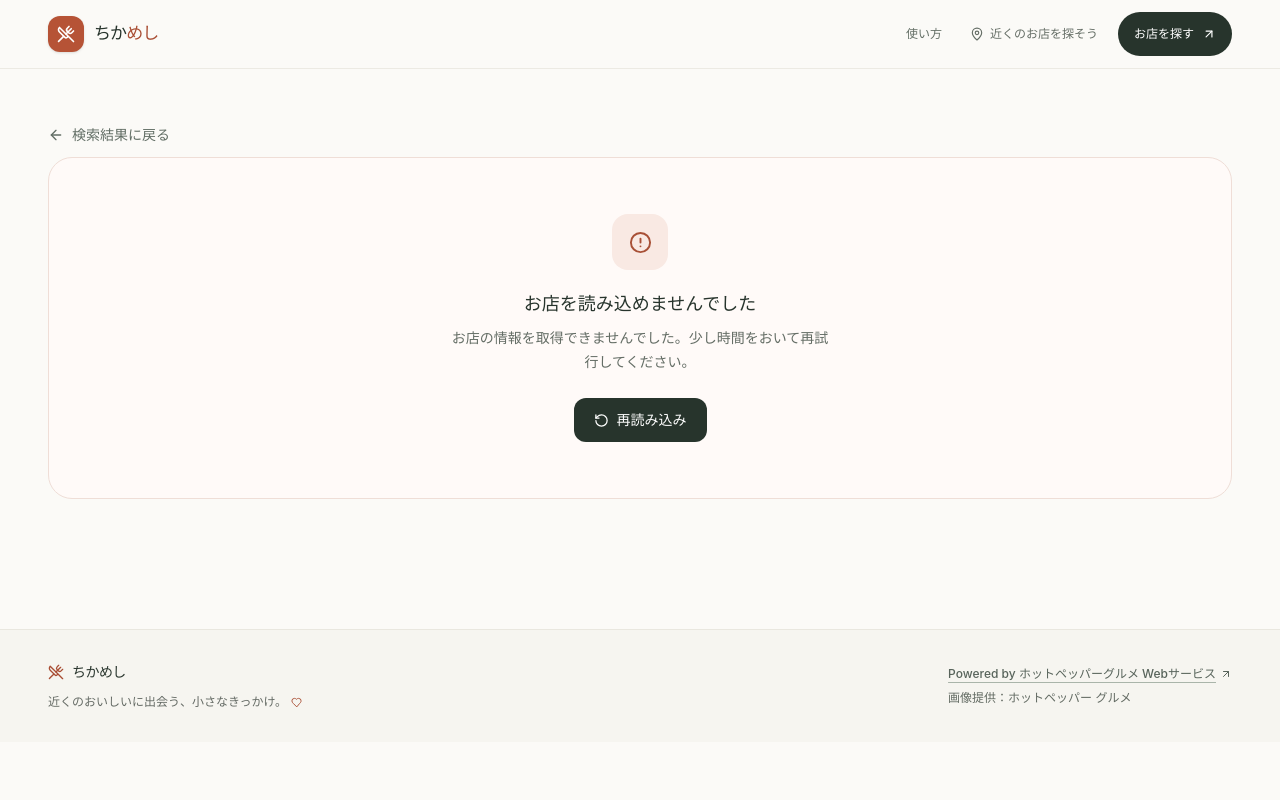
Test: handles detail not found and retryable errors separately
expect the message "お店を読み込めませんでした お店の情報を取得できませんでした。少し時間をおいて再試行してください。 再読み込み" is shown: met, box [48,157,1232,499]
Click the button "再読み込み" at (640, 420), box [574,398,706,442]
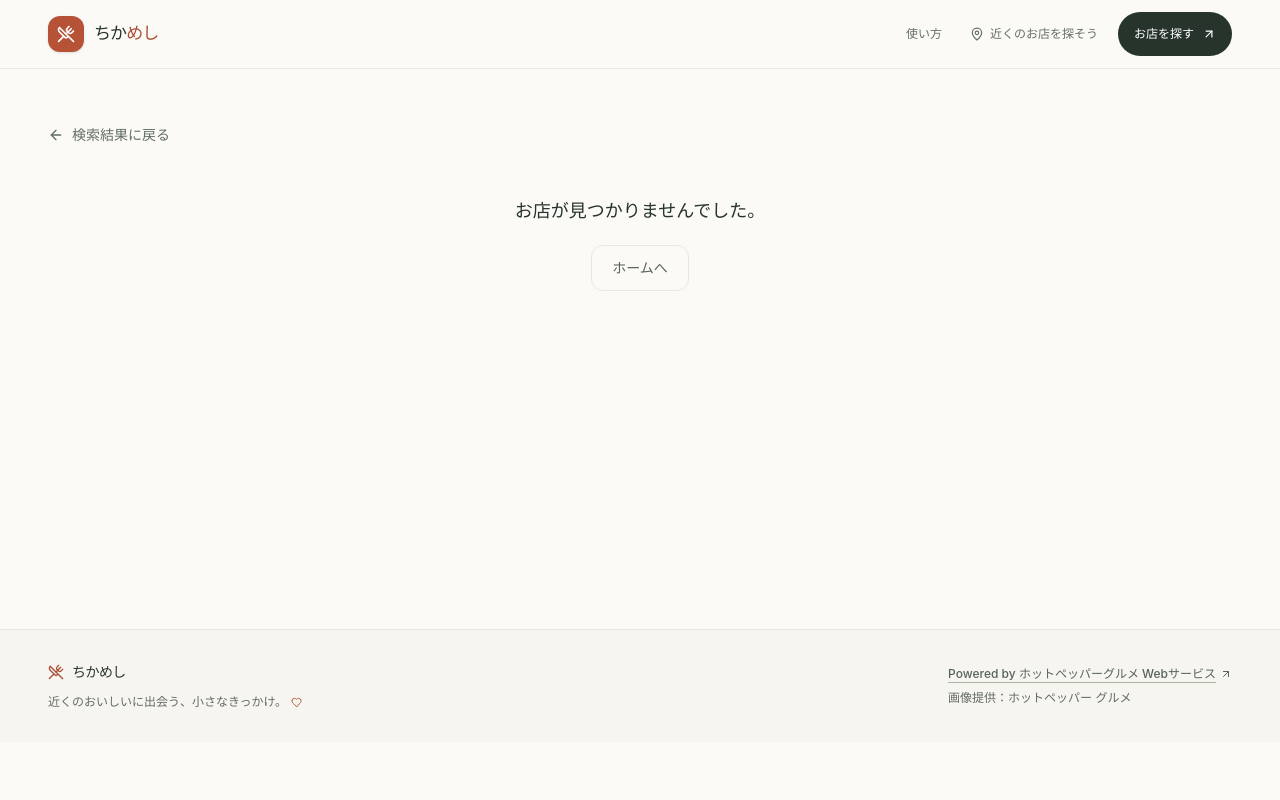
expect the heading "お店が見つかりませんでした。" is shown: met, box [515,200,765,221]
